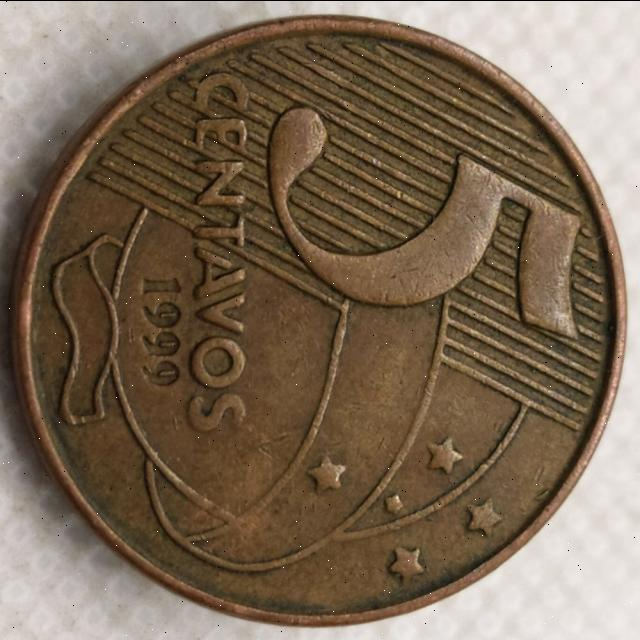5 cent: (10, 15, 630, 628)
